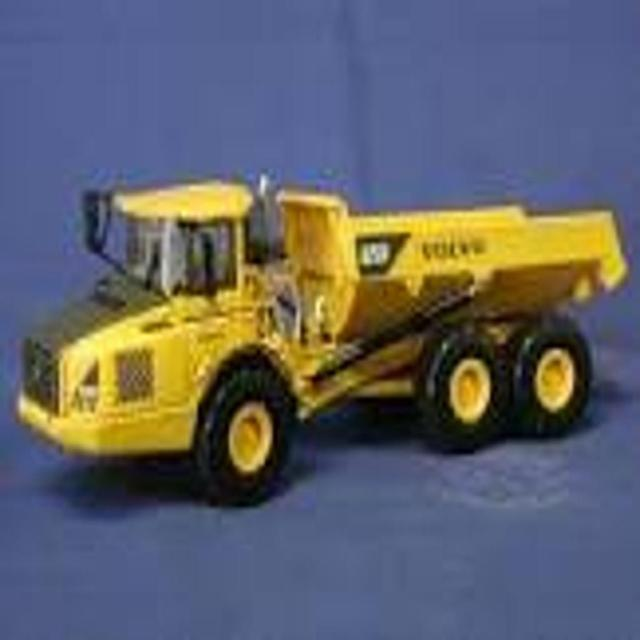dump_truck: (14, 166, 622, 507)
